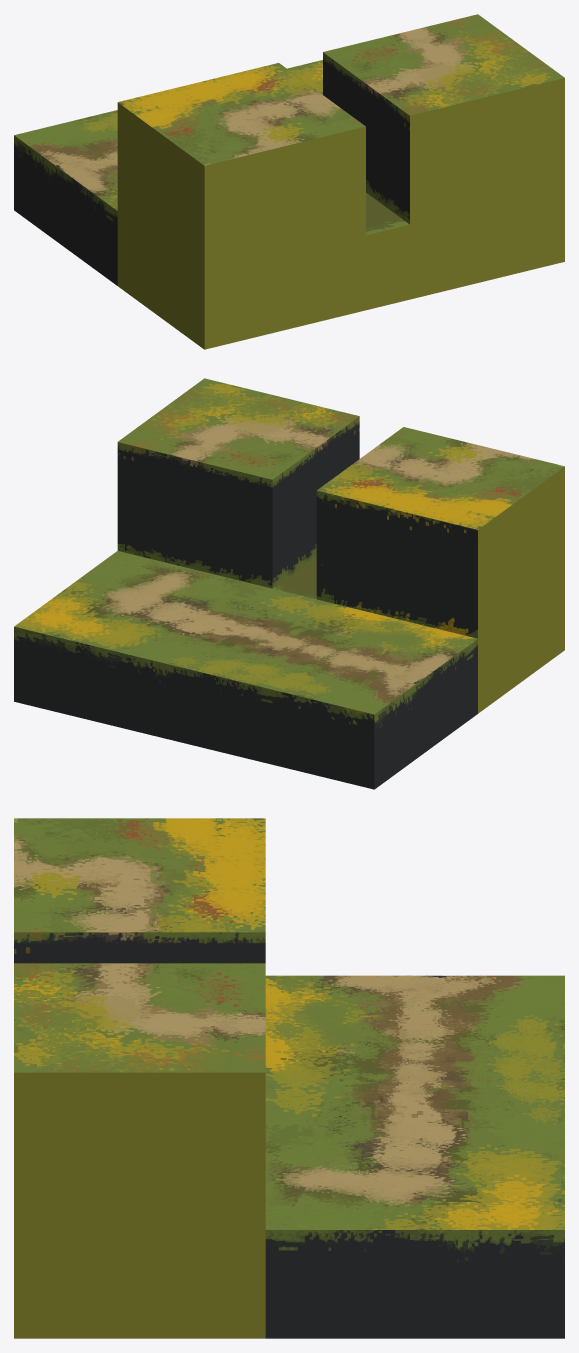
Rendered from level1p1.fbx.
The picture shows the model from 3 angles, top to bottom: view 1: azimuth 30°, elevation 25°; view 2: azimuth 150°, elevation 25°; view 3: azimuth 270°, elevation 25°; orthographic projection. The views are drawn at different scales.
Parts seen in each view (by area): view 1: BoxBrush; view 2: BoxBrush; view 3: BoxBrush.
Boxes of the visible parts, bbox=[...] form: BoxBrush: bbox=[14, 14, 564, 349]; BoxBrush: bbox=[14, 378, 564, 789]; BoxBrush: bbox=[14, 818, 564, 1338].
Bounding box in the file's own units: 10050 × 4900 × 9200.
Materials: 1 (1 with a texture image).
